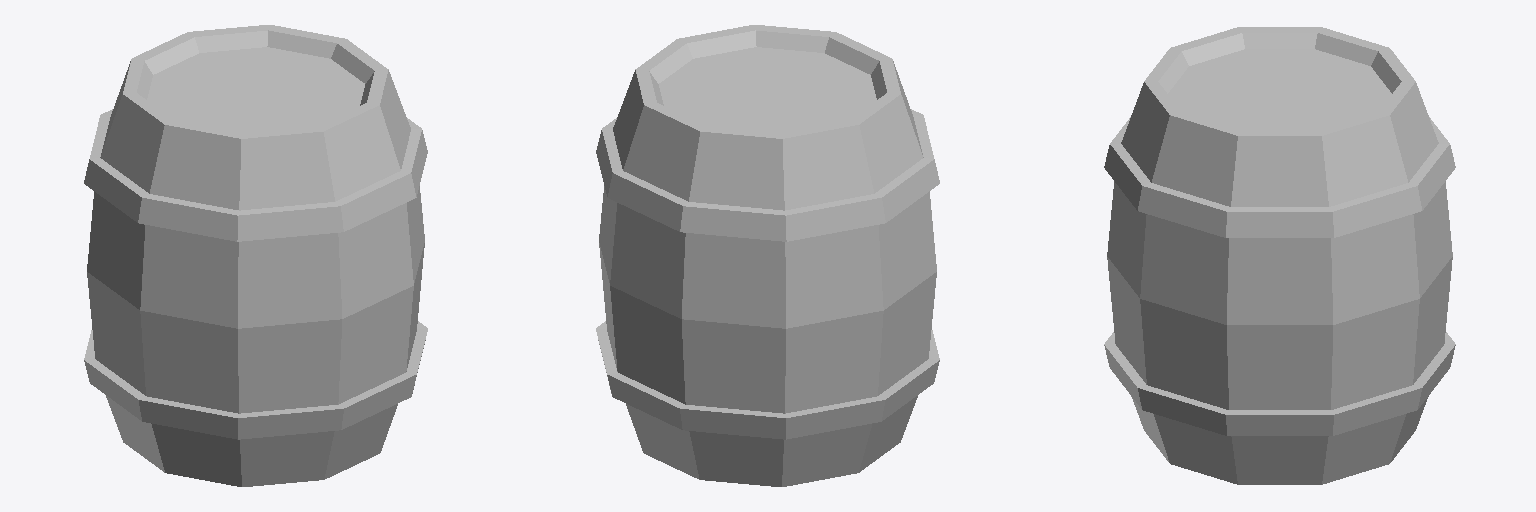
The model's file is barril_8.obj.
The picture shows the model from 3 angles: view 1: azimuth 30°, elevation 25°; view 2: azimuth 150°, elevation 25°; view 3: azimuth 270°, elevation 25°; orthographic projection.
Parts seen in each view (by area): view 1: Barril.007_Cylinder.050; view 2: Barril.007_Cylinder.050; view 3: Barril.007_Cylinder.050.
Part boxes in pixels (x1,y1,x2,y2): Barril.007_Cylinder.050: (84,25,427,486); Barril.007_Cylinder.050: (596,25,939,486); Barril.007_Cylinder.050: (1104,27,1455,484).
Bounding box in the file's own units: 0.8714 × 1 × 0.9152.